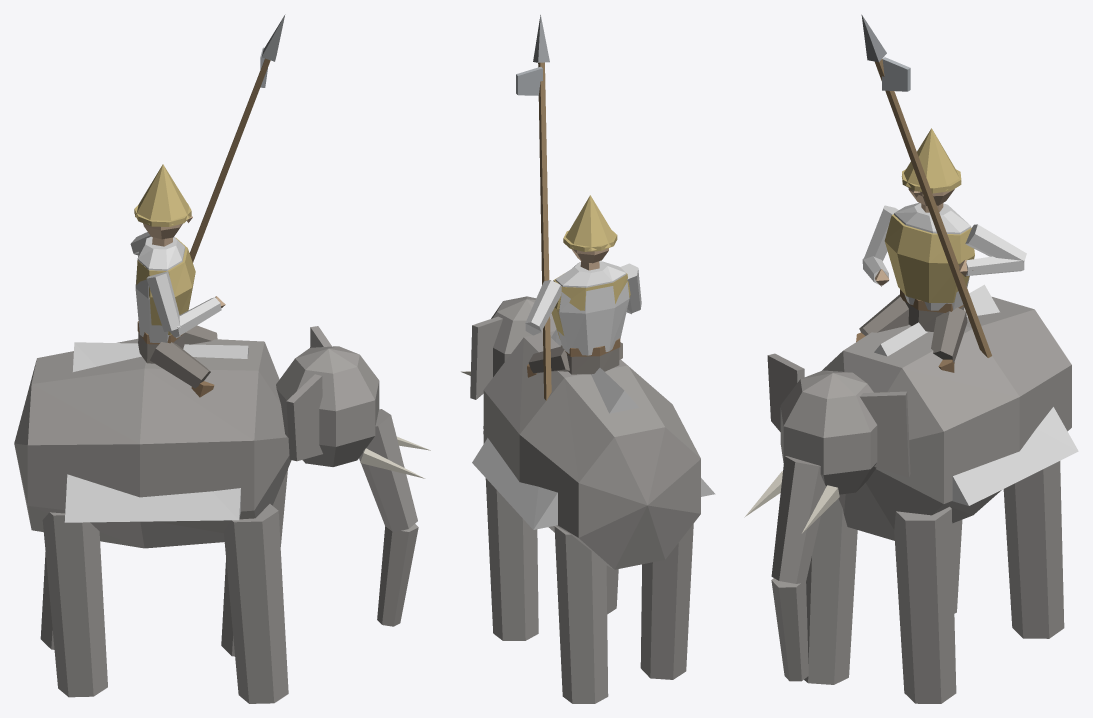
The model's file is naresuan-s-elephant.glb.
The picture shows the model from 3 angles, left to right: view 1: azimuth 30°, elevation 25°; view 2: azimuth 150°, elevation 25°; view 3: azimuth 270°, elevation 25°; orthographic projection. The views are drawn at different scales.
Visible parts, largest first — view 1: LOD0; view 2: LOD0; view 3: LOD0.
Part boxes in pixels (bbox=[...]): LOD0: bbox=[14, 14, 430, 703]; LOD0: bbox=[461, 15, 715, 703]; LOD0: bbox=[744, 14, 1078, 703].
Size of what is drawn, in the model's own units: 1.15 by 2.16 by 0.9602.
